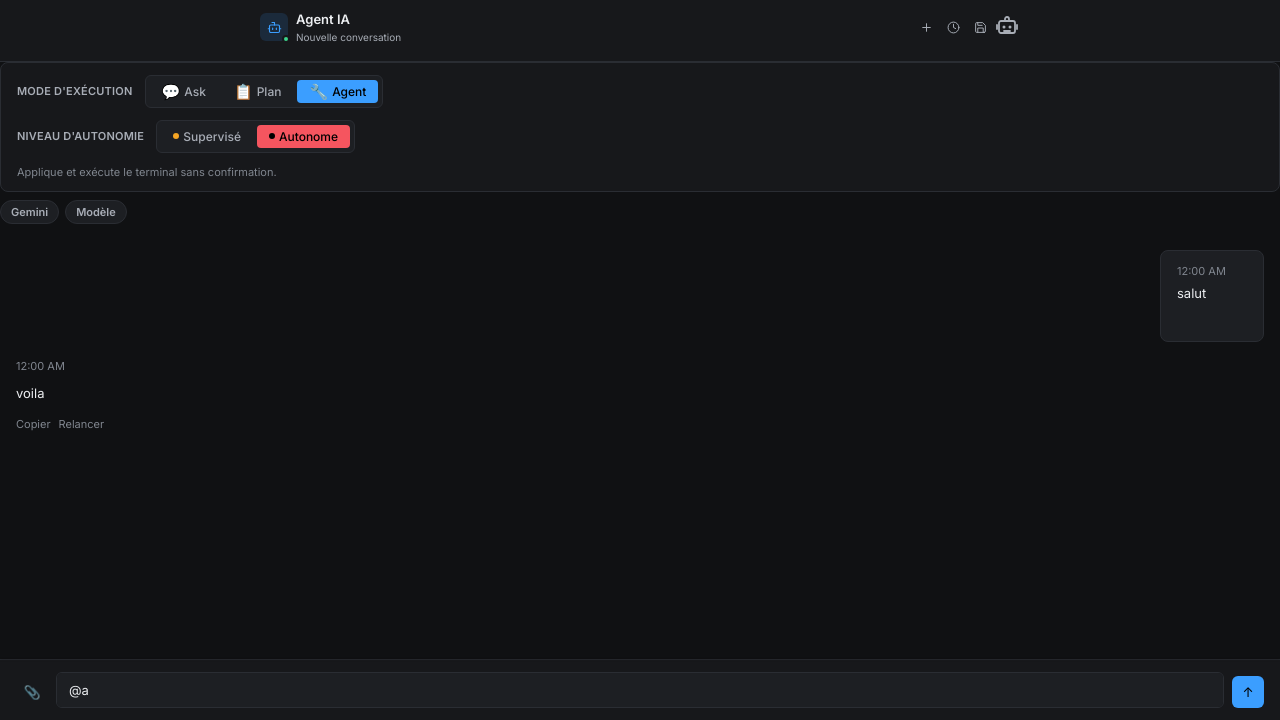
Test: COD-70 — swap ChatInterface garde la parite du composer › le flag monte ChatInterface et conserve edition, feedback et suggestions
Step 1. Replace the text in the dropdown with "@" → (640, 690), box [56,672,1224,708]
(page scrolled)
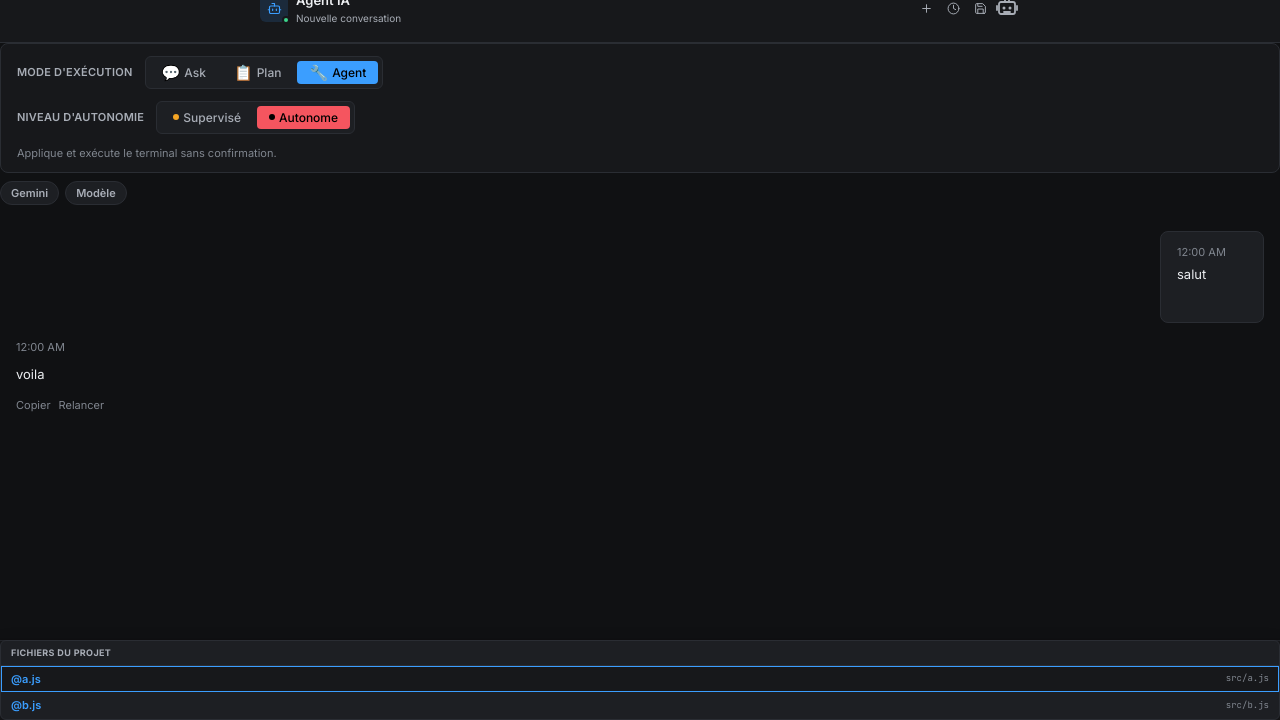
Now the list named "Fichiers du projet" is shown, box [1,666,1279,718]
